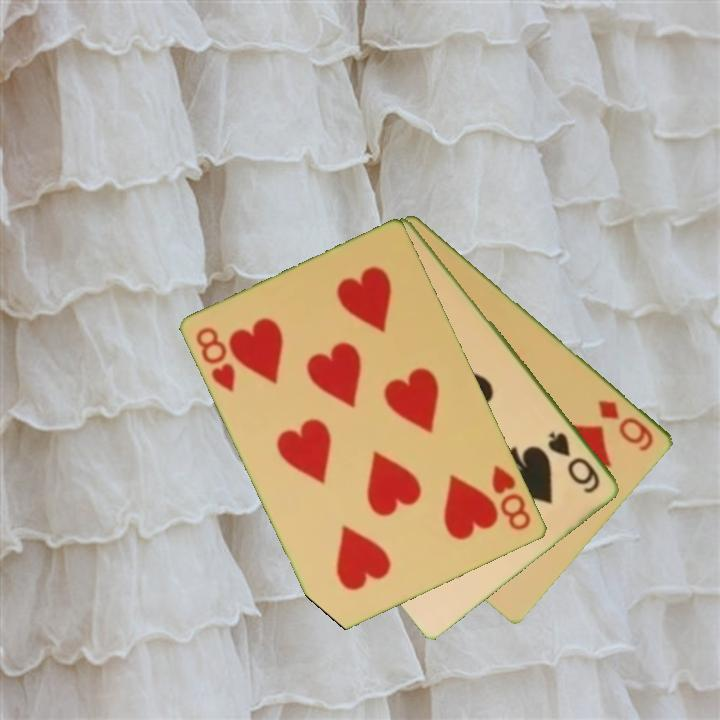6d: (594, 396, 658, 454)
6s: (544, 428, 604, 497)
8h: (488, 461, 535, 534), (193, 323, 239, 396)
